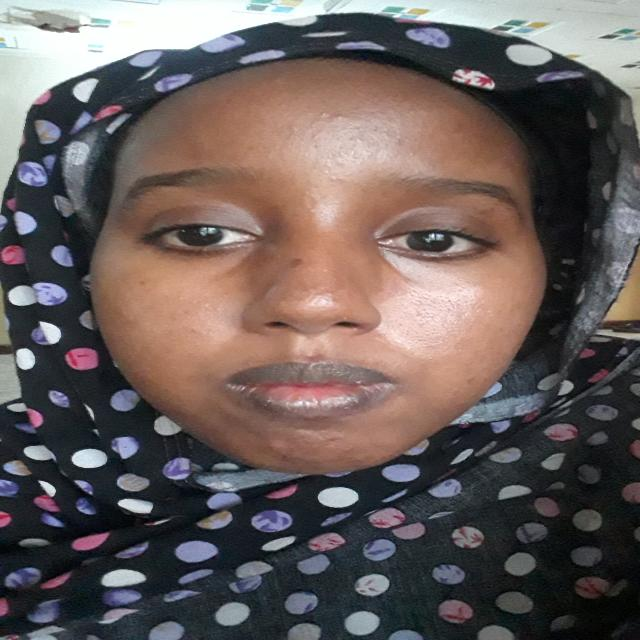Acne: (287, 256, 307, 270), (302, 351, 326, 362), (262, 442, 284, 452), (267, 76, 286, 85), (461, 374, 478, 384), (323, 436, 343, 444), (327, 175, 346, 183), (135, 278, 148, 288), (190, 328, 203, 338), (308, 208, 320, 218), (332, 114, 348, 121), (317, 110, 330, 117), (281, 452, 293, 458), (356, 137, 363, 145)
Englarged-Pores: (389, 290, 478, 346)
